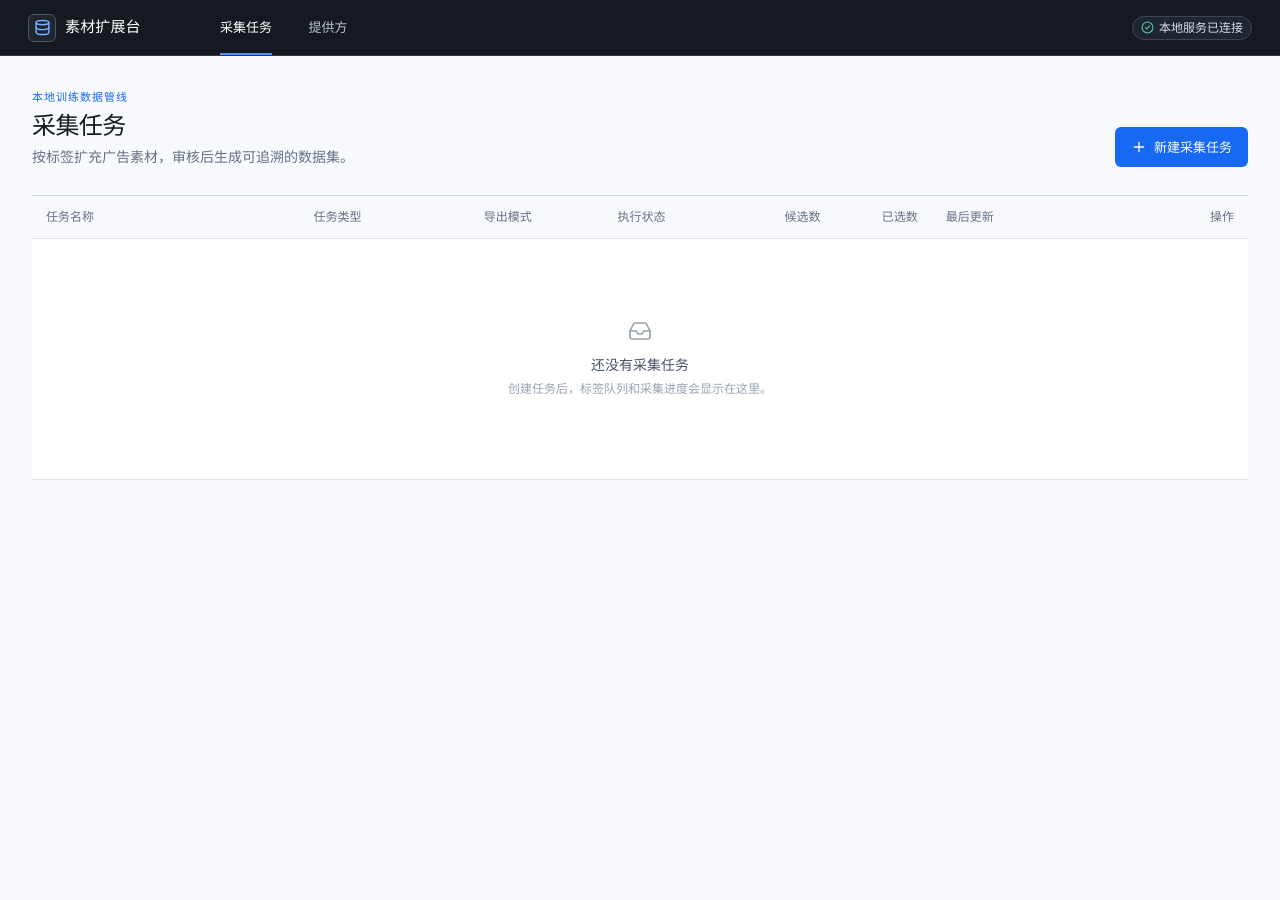
it: 新建采集任务 › 候选素材数小于目标素材数时显示中文错误并阻止提交
The width and height of the screenshot is (1280, 900).
Click the button "新建采集任务" at point(1182, 147), box [1115,127,1248,167]
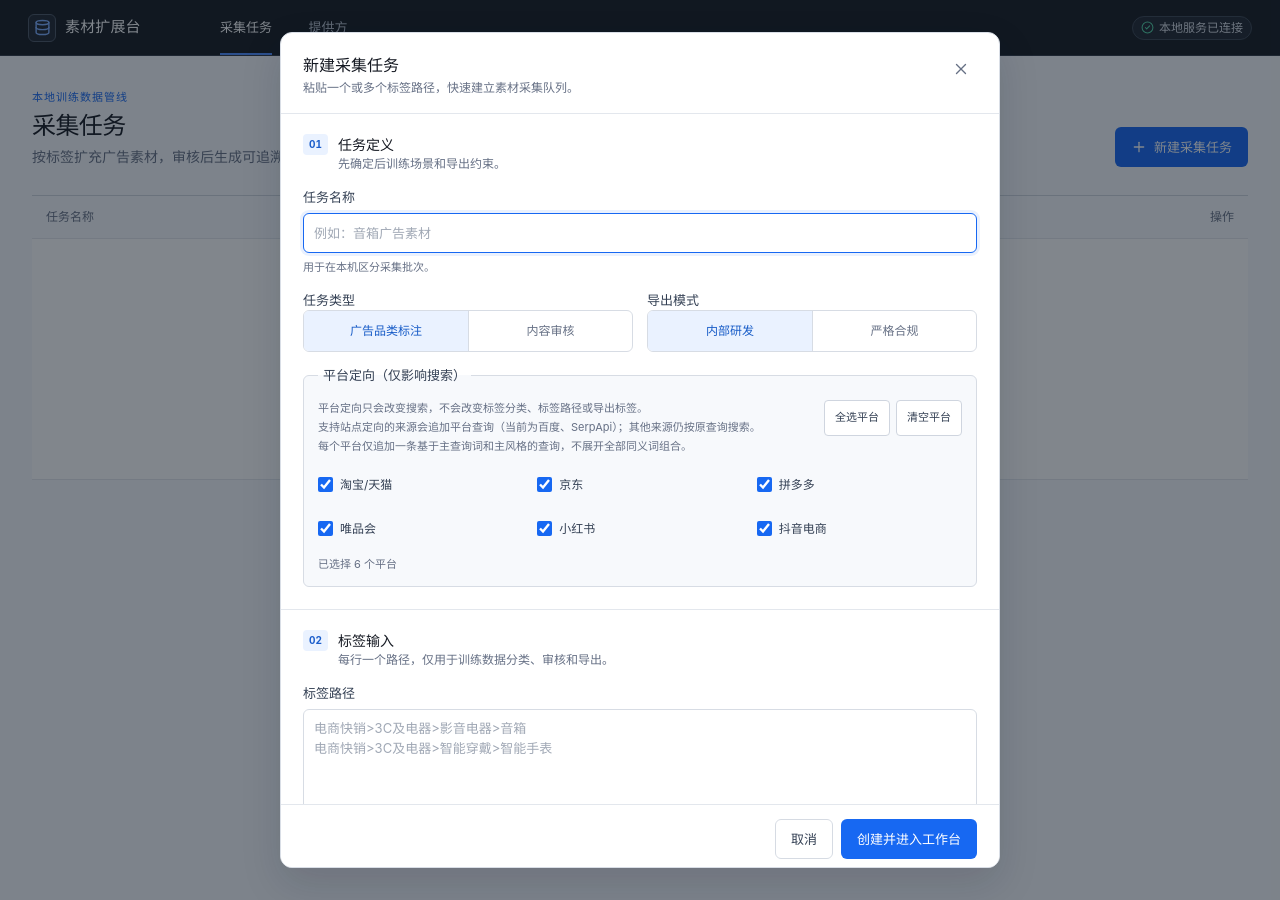
Type "数量错误示例" into the field labelled "任务名称" at point(640, 233), box [303,213,977,253]
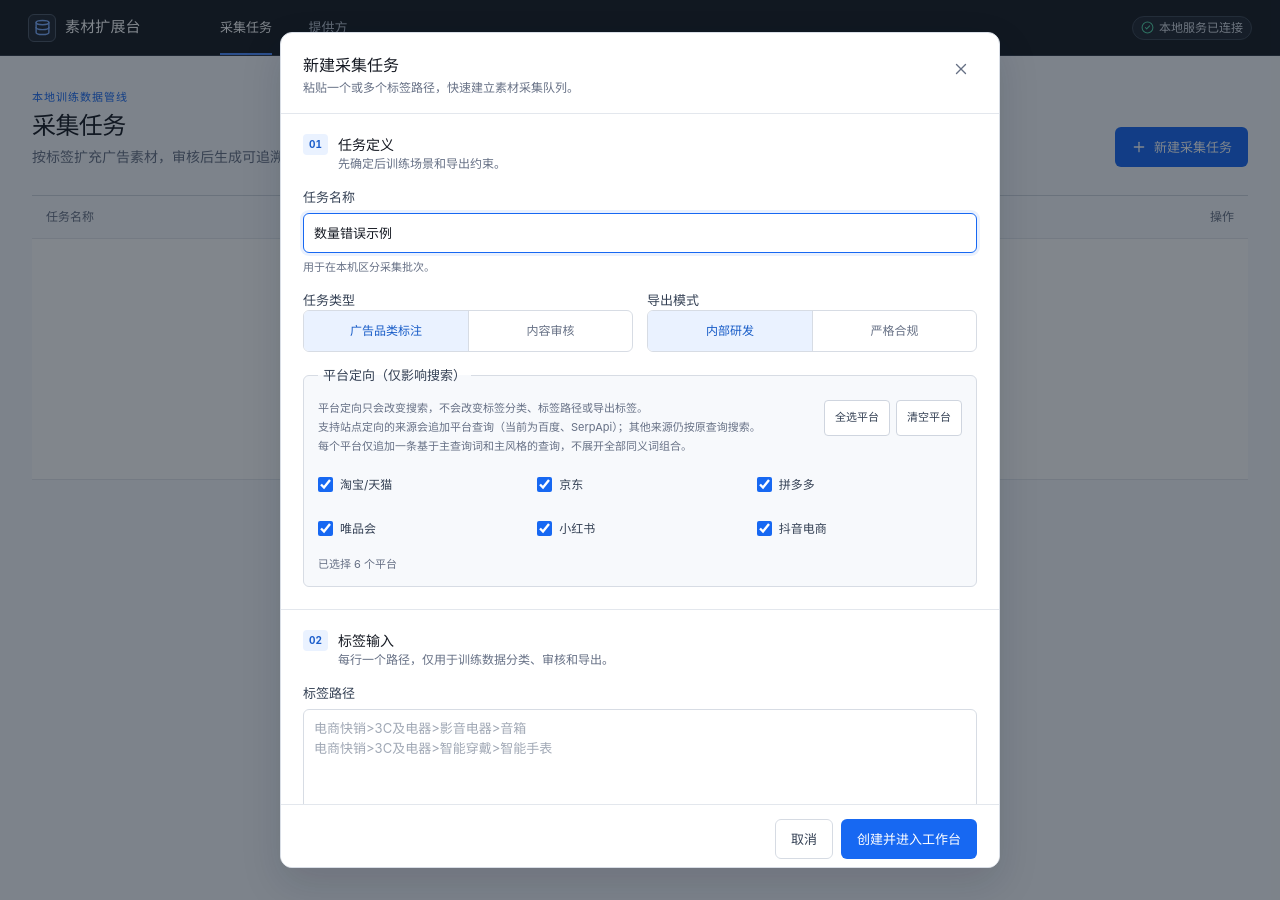
Type "电商快销>3C及电器>音箱" into the text box labelled "标签路径" at point(640, 768), box [303,709,977,827]
(page scrolled)
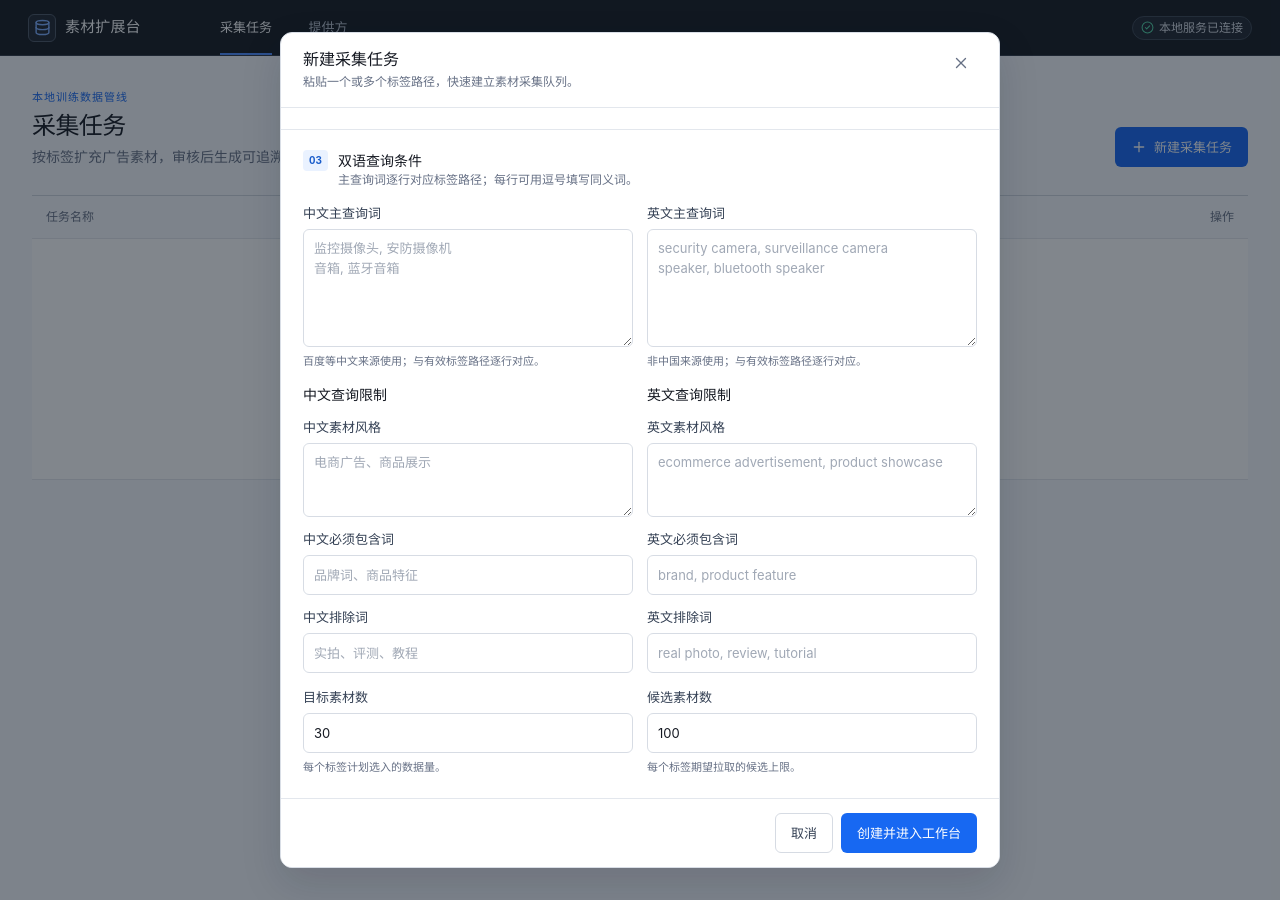
Replace the text in the number field labelled "候选素材数" with "20" at point(812, 733), box [647,713,977,753]
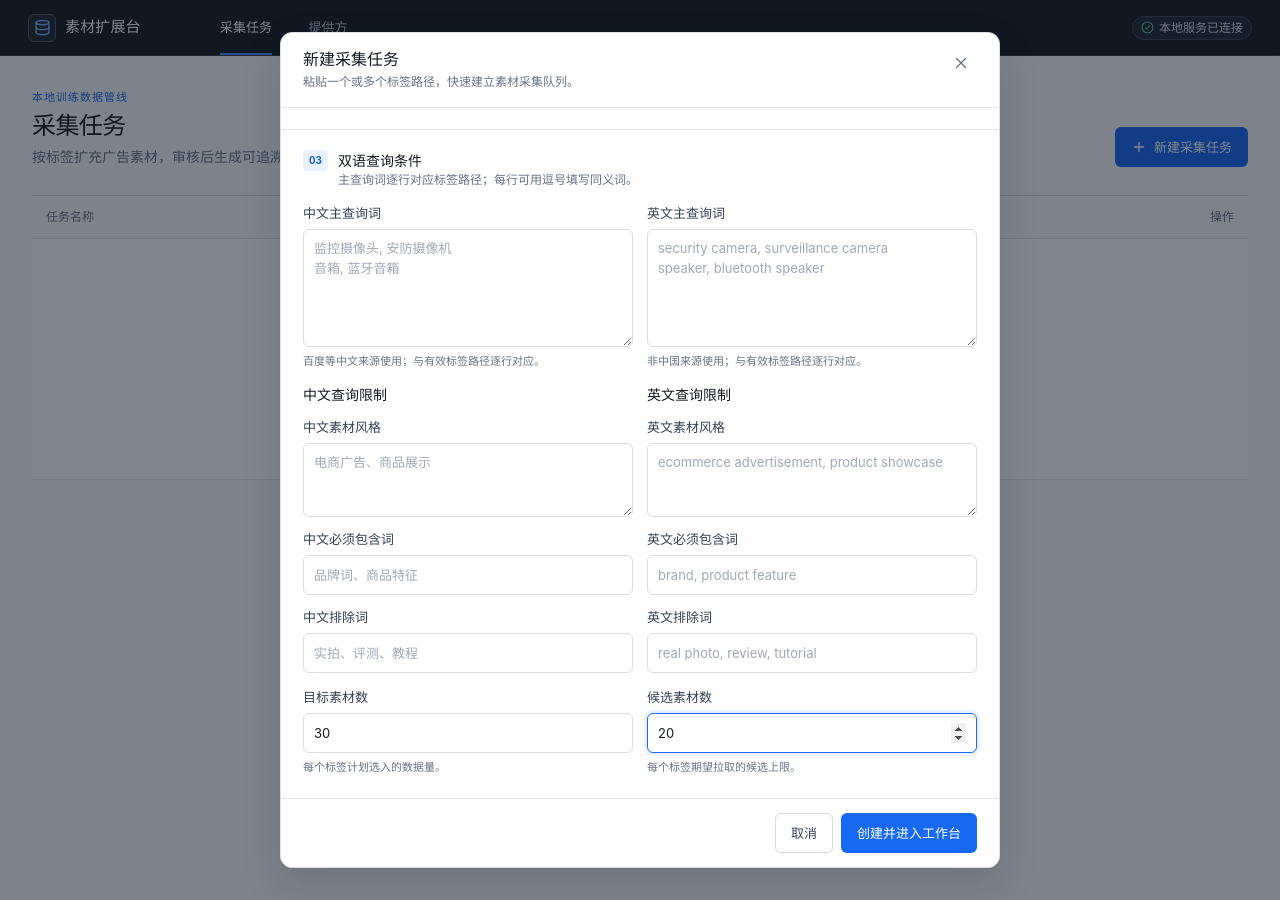
Click the button "创建并进入工作台" at point(909, 833), box [841,813,977,853]
(page scrolled)
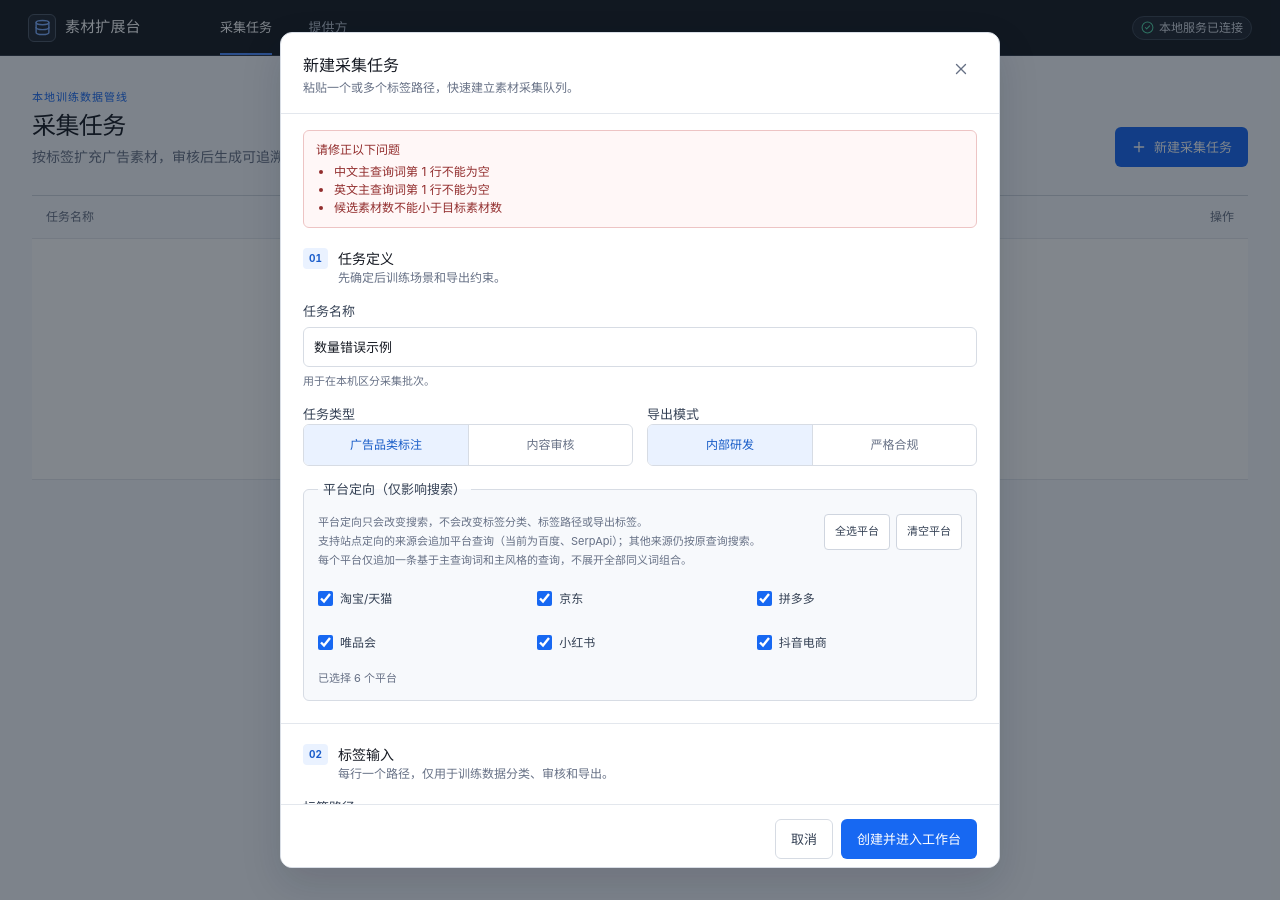
Result: the message "请修正以下问题" shows "候选素材数不能小于目标素材数" at [334,200,502,215]
